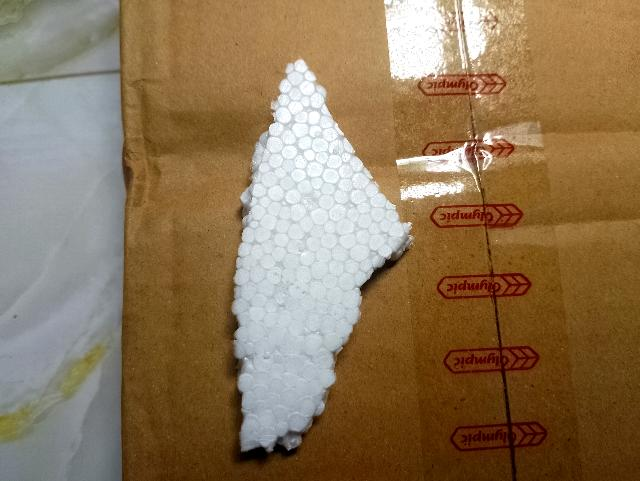cocksheet: (234, 59, 395, 468)
